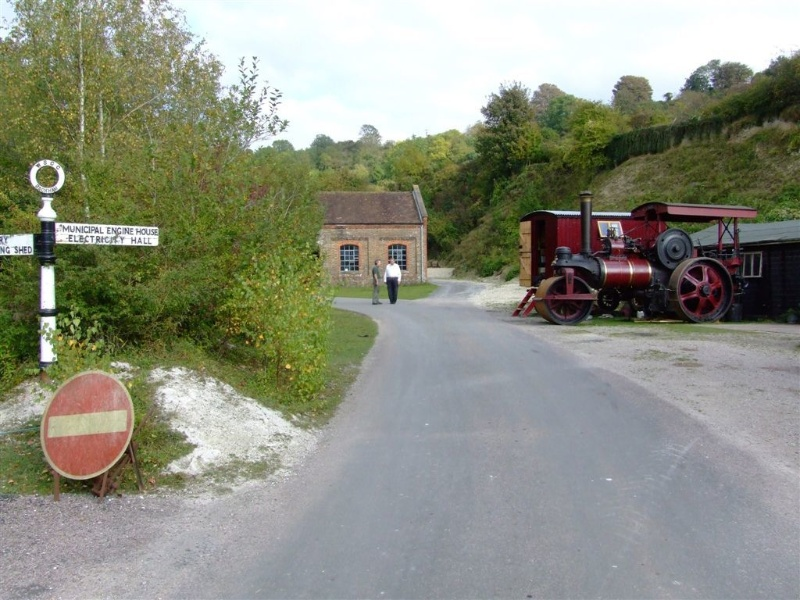no_entry: (36, 366, 136, 484)
